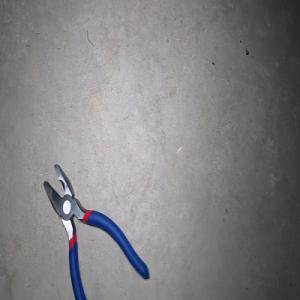Pliers: (43, 163, 149, 300)
